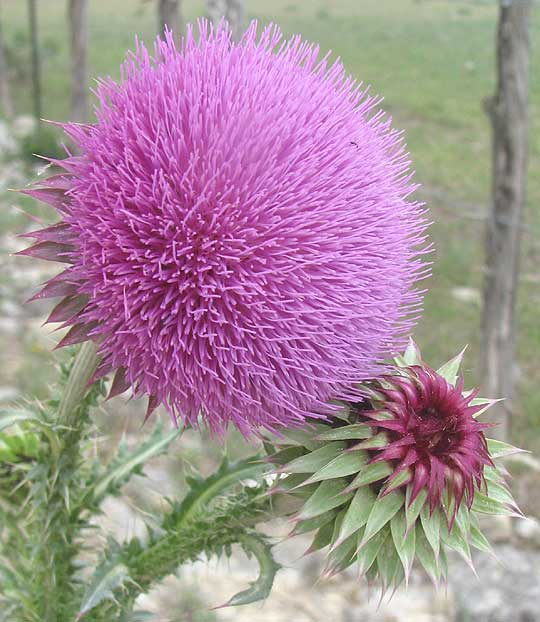thistle: (35, 28, 431, 464)
